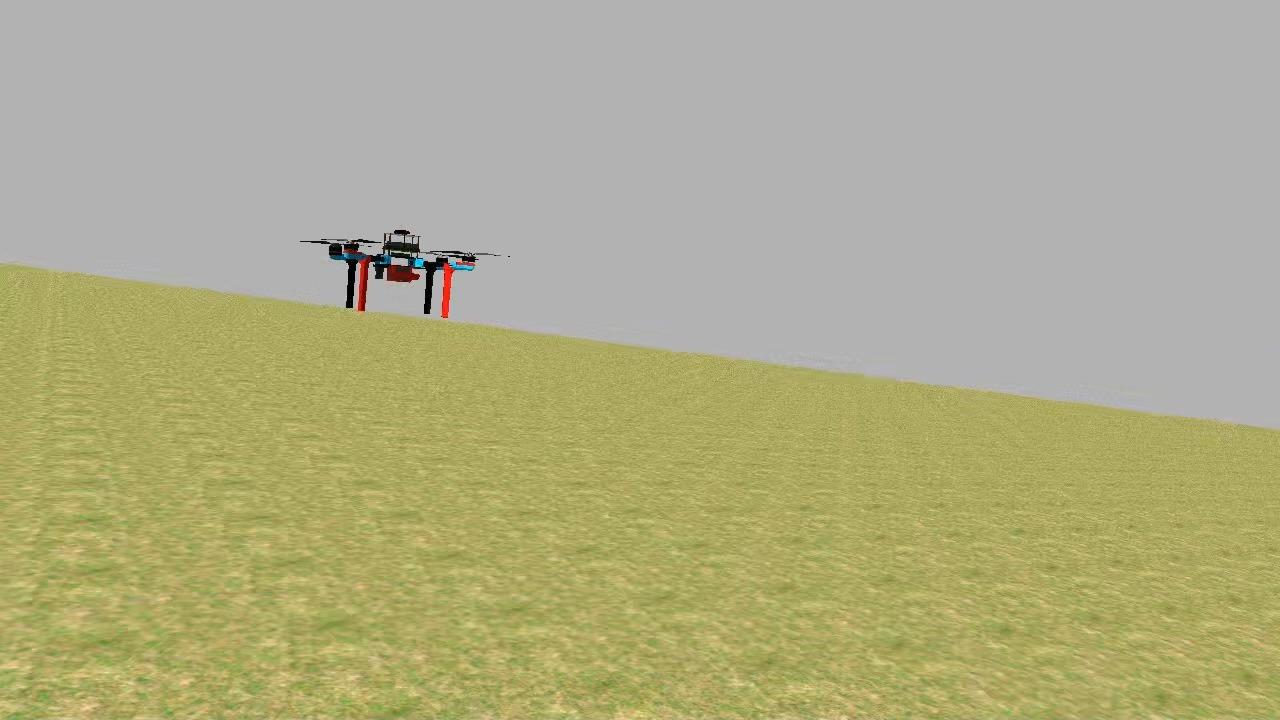UAV: (319, 220, 484, 326)
